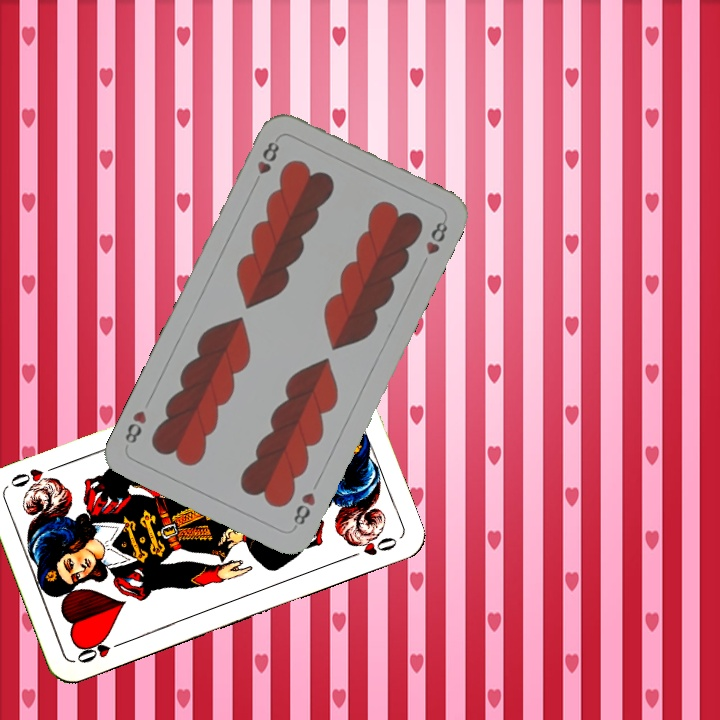H8: (249, 137, 282, 189), (289, 488, 318, 532)
HO: (72, 634, 129, 666)
